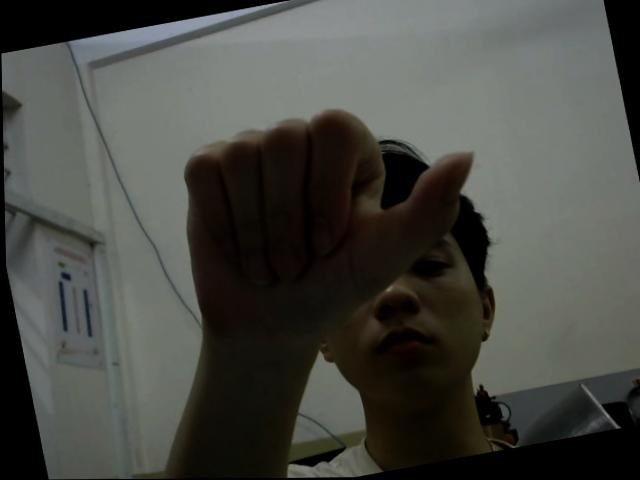A: (161, 86, 499, 351)
